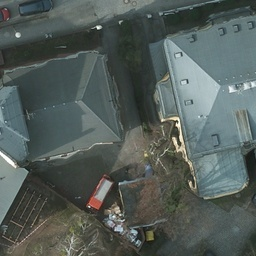car: (21, 1, 53, 15), (1, 6, 10, 22)
